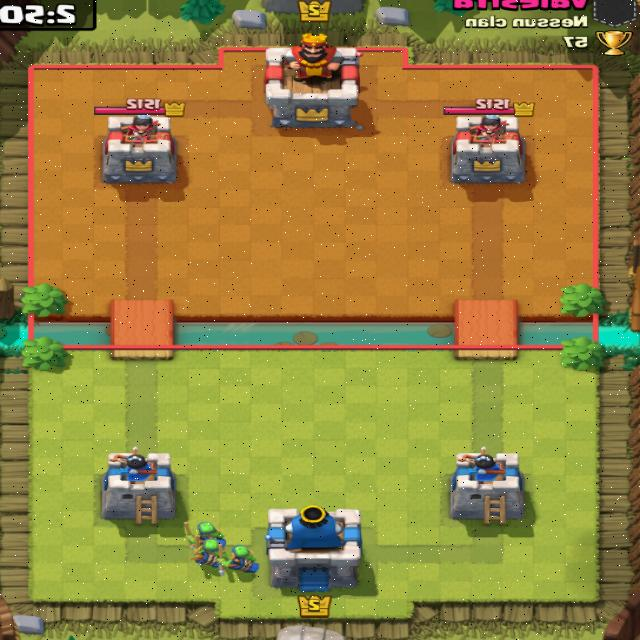Player-SpearGoblin: (223, 543, 261, 582), (187, 522, 224, 552), (199, 539, 223, 580)
